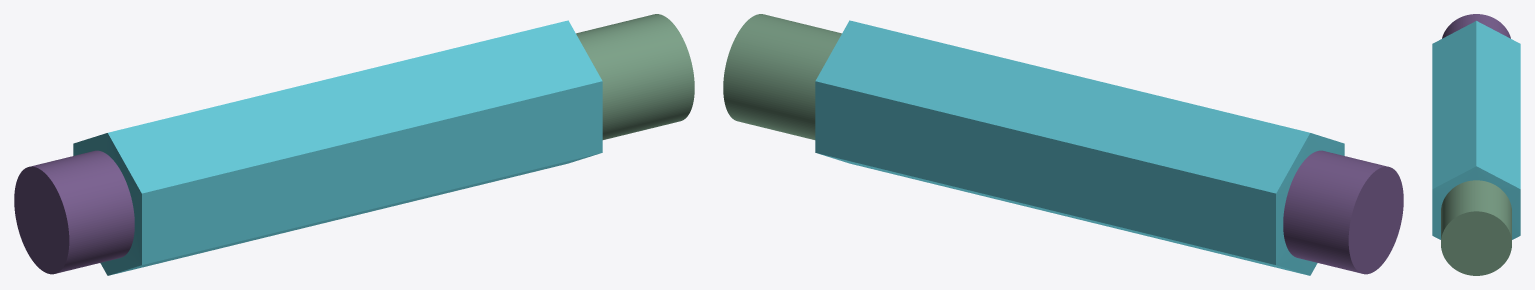
File: 5_canonical.obj
3 renders of one model, left to right at view 1: azimuth 30°, elevation 25°; view 2: azimuth 150°, elevation 25°; view 3: azimuth 270°, elevation 25°, orthographic. The views are drawn at different scales.
Visible parts, largest first — view 1: geometry_2, geometry_1, geometry_0; view 2: geometry_2, geometry_1, geometry_0; view 3: geometry_2, geometry_0, geometry_1.
Part boxes in pixels (x1=…): geometry_2: x1=73, y1=20, x2=602, y2=275; geometry_1: x1=14, y1=150, x2=134, y2=274; geometry_0: x1=576, y1=14, x2=694, y2=139; geometry_2: x1=815, y1=20, x2=1344, y2=275; geometry_1: x1=1283, y1=150, x2=1403, y2=274; geometry_0: x1=723, y1=14, x2=841, y2=139; geometry_2: x1=1432, y1=21, x2=1520, y2=239; geometry_0: x1=1441, y1=180, x2=1511, y2=275; geometry_1: x1=1442, y1=14, x2=1510, y2=38.
Bounding box in the file's own units: 0.095 × 0.0208 × 0.018.
